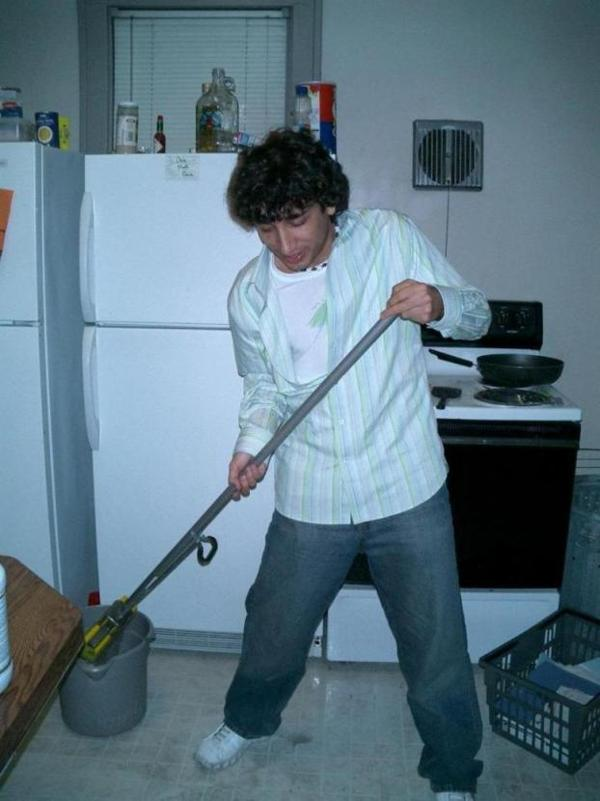person: (196, 123, 495, 801)
